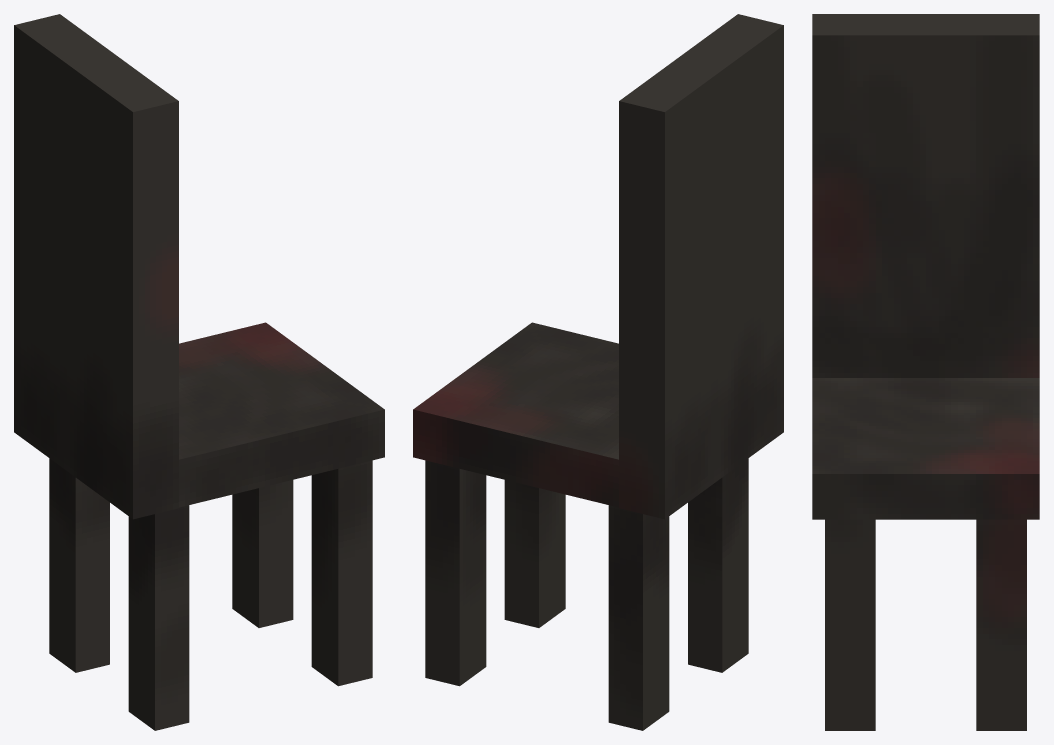
File: chair-normal.gltf
The picture shows the model from 3 angles, left to right: view 1: azimuth 30°, elevation 25°; view 2: azimuth 150°, elevation 25°; view 3: azimuth 270°, elevation 25°; orthographic projection. The views are drawn at different scales.
Visible parts, largest first — view 1: group; view 2: group; view 3: group.
Boxes of the visible parts, x1,y1,x2,y2 form: group: (14, 14, 384, 730); group: (413, 14, 783, 730); group: (812, 14, 1039, 730).
Size of the model in its own units: 0.6875 by 1.65 by 0.5625.
Materials: 1 (1 with a texture image).
